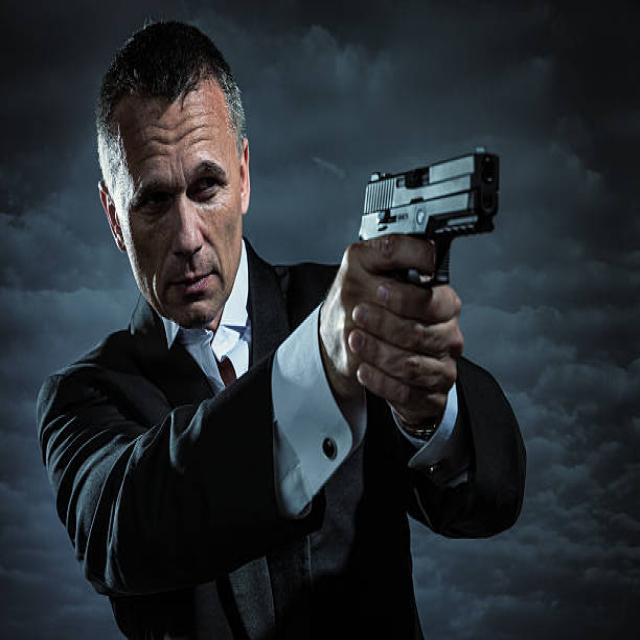HandGun: (359, 152, 500, 288)
